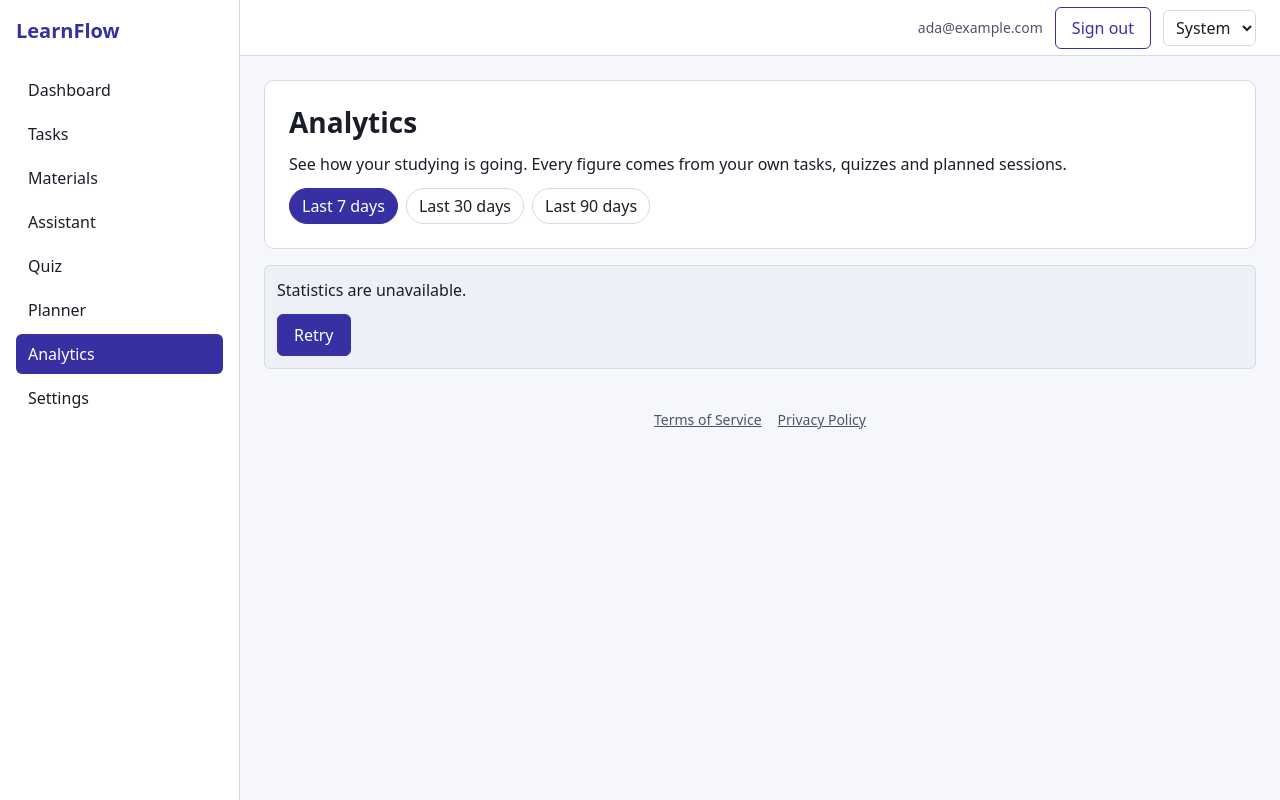
it: analytics page › shows an error with a retry
Expected: the element that starts with "Analytics" is shown, [240, 56, 1279, 393]
Expected: the text "Statistics are unavailable." is shown, [277, 279, 466, 301]
Click the button "Retry" at (314, 335), box [277, 314, 350, 356]
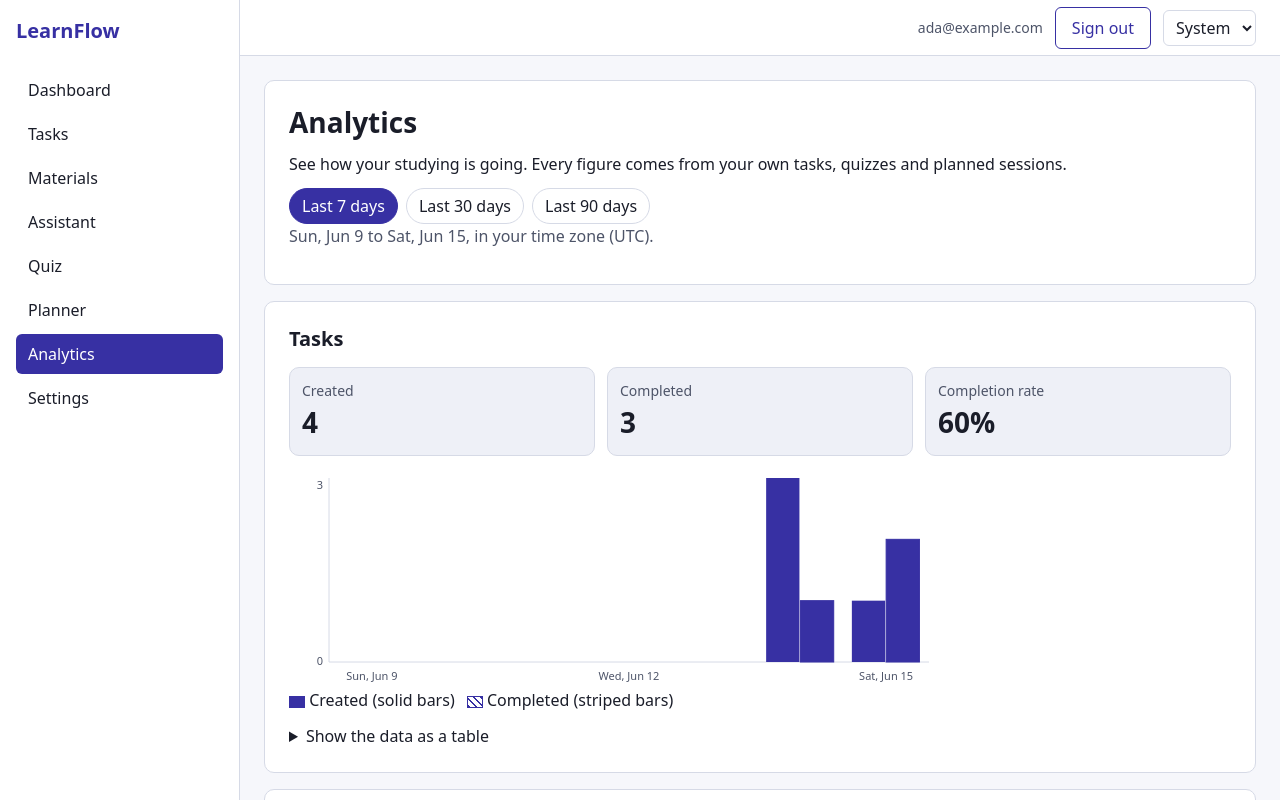
Now the element named "Task figures" is shown, box [289, 367, 1231, 456]
